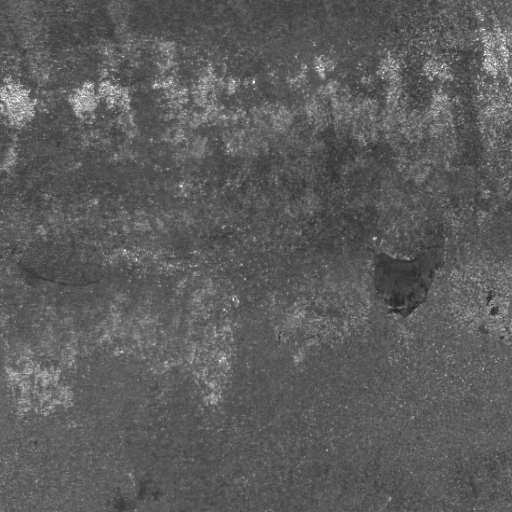aokeng: (370, 224, 448, 317)
